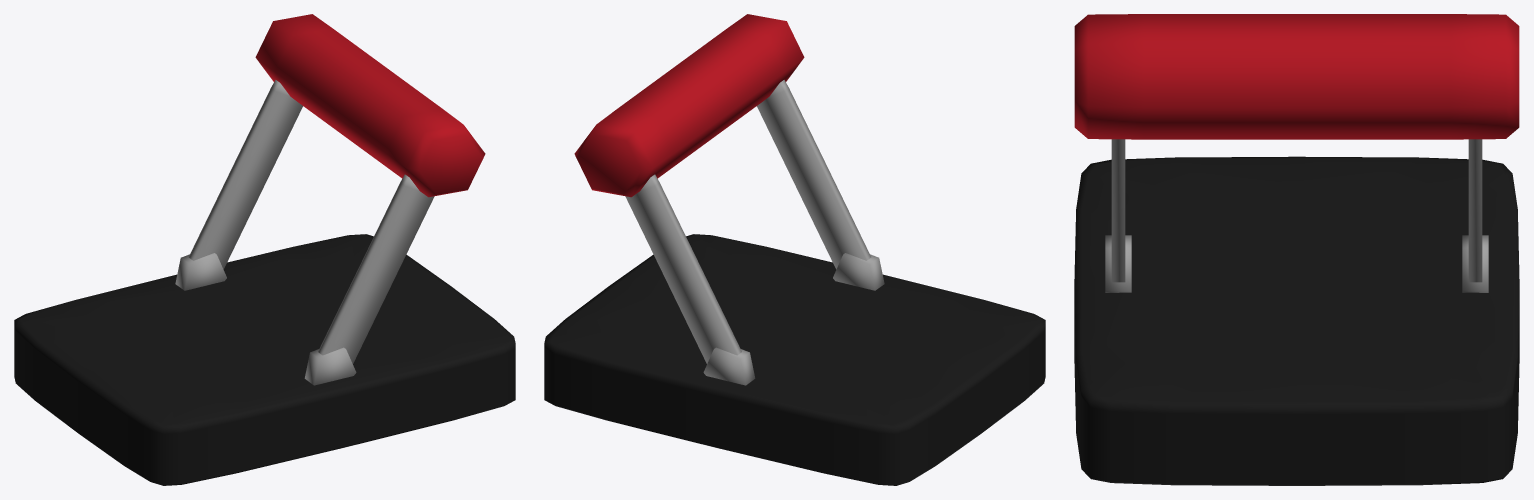
The model's file is button3.fbx.
3 renders of one model, left to right at view 1: azimuth 30°, elevation 25°; view 2: azimuth 150°, elevation 25°; view 3: azimuth 270°, elevation 25°, orthographic. The views are drawn at different scales.
Parts seen in each view (by area): view 1: button3_base, button_lever; view 2: button3_base, button_lever; view 3: button3_base, button_lever.
Boxes of the visible parts, bbox=[...] form: button3_base: bbox=[14, 234, 515, 485]; button_lever: bbox=[175, 14, 485, 385]; button3_base: bbox=[544, 234, 1045, 485]; button_lever: bbox=[574, 14, 884, 385]; button3_base: bbox=[1074, 156, 1519, 485]; button_lever: bbox=[1074, 14, 1519, 292].
Size of the model in its own units: 14.96 by 19.96 by 14.94.
